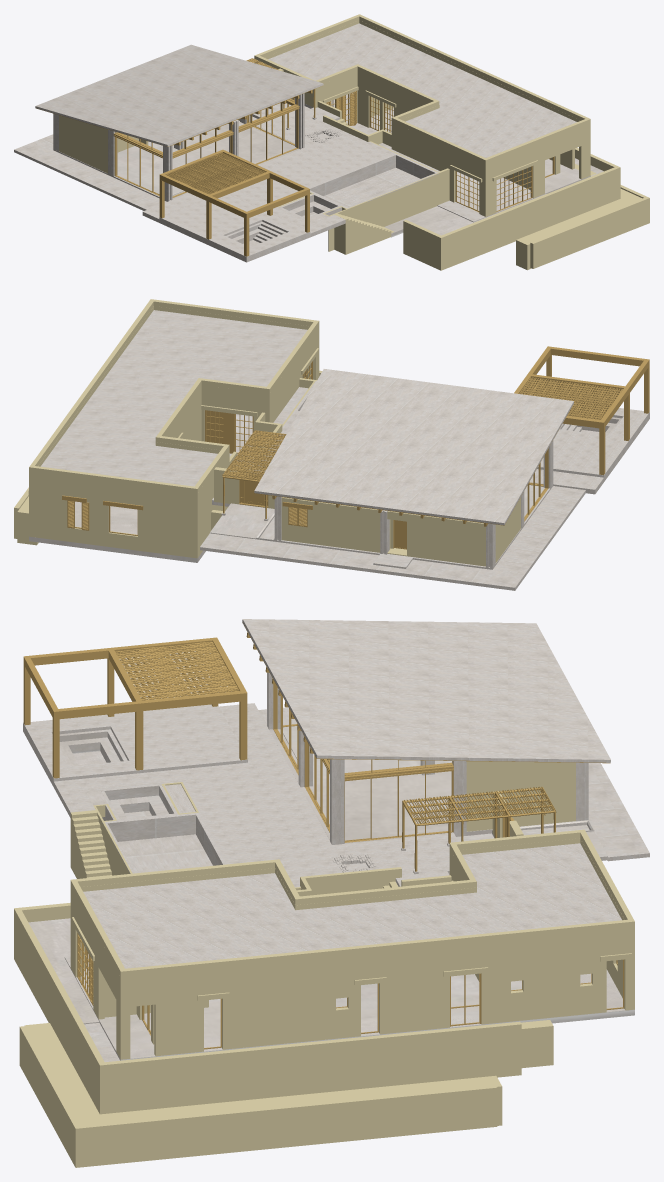
Rendered from Casona01.glb.
The picture shows the model from 3 angles, top to bottom: view 1: azimuth 30°, elevation 25°; view 2: azimuth 150°, elevation 25°; view 3: azimuth 270°, elevation 25°; orthographic projection. The views are drawn at different scales.
Parts seen in each view (by area): view 1: C01_Wall01, C01_Roof, C01_Floor01, C01_Floor02, C01_Floor03, C01_Pergolas, C01_Cancel; view 2: C01_Roof, C01_Wall01, C01_Floor02, C01_Pergolas, C01_Floor03, C01_Floor01, C01_Cancel; view 3: C01_Wall01, C01_Roof, C01_Floor01, C01_Floor02, C01_Floor03, C01_Pergolas, C01_Cancel.
Part boxes in pixels (left/top/right/bottom): C01_Wall01: left=59, top=14, right=649, bottom=270; C01_Roof: left=35, top=44, right=342, bottom=201; C01_Floor01: left=142, top=98, right=485, bottom=262; C01_Floor02: left=14, top=23, right=576, bottom=210; C01_Floor03: left=53, top=93, right=603, bottom=246; C01_Pergolas: left=36, top=58, right=356, bottom=256; C01_Cancel: left=114, top=91, right=554, bottom=212; C01_Roof: left=221, top=369, right=573, bottom=569; C01_Wall01: left=14, top=299, right=520, bottom=566; C01_Floor02: left=41, top=310, right=585, bottom=590; C01_Pergolas: left=62, top=346, right=649, bottom=549; C01_Floor03: left=29, top=387, right=621, bottom=569; C01_Floor01: left=212, top=381, right=649, bottom=568; C01_Cancel: left=75, top=361, right=548, bottom=535; C01_Wall01: left=14, top=761, right=634, bottom=1167; C01_Roof: left=242, top=619, right=610, bottom=874; C01_Floor01: left=23, top=703, right=594, bottom=968; C01_Floor02: left=83, top=707, right=649, bottom=968; C01_Floor03: left=28, top=723, right=634, bottom=1062; C01_Pergolas: left=23, top=622, right=610, bottom=871; C01_Cancel: left=77, top=684, right=624, bottom=1049.
Size of the model in its own units: 40.08 by 11.52 by 29.47.
3 materials, 1 textured.
